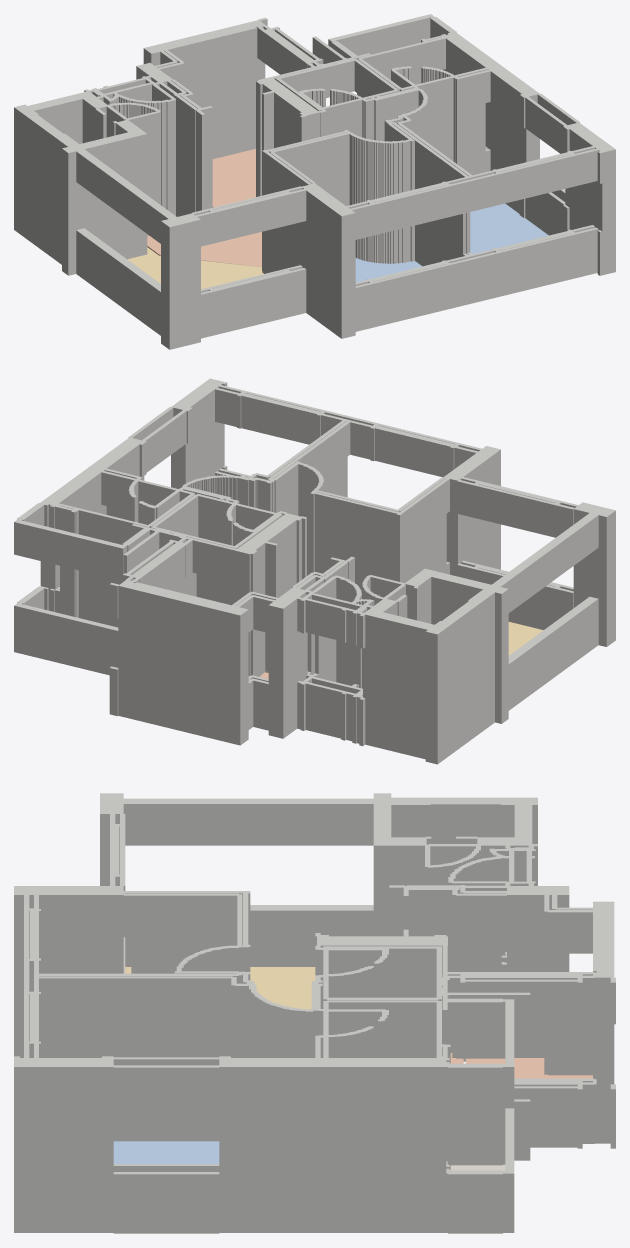
The picture shows the model from 3 angles, top to bottom: view 1: azimuth 30°, elevation 25°; view 2: azimuth 150°, elevation 25°; view 3: azimuth 270°, elevation 25°; orthographic projection. The views are drawn at different scales.
Parts seen in each view (by area): view 1: walls, room:bedroom:2, room:kitchen:7, room:living:3, room:kitchen:5, room:bedroom:1; view 2: walls, room:living:3; view 3: walls, room:bedroom:2, room:living:3, room:kitchen:7.
Part boxes in pixels (x1=…): walls: x1=14, y1=14, x2=615, y2=349; room:bedroom:2: x1=470, y1=203, x2=548, y2=253; room:kitchen:7: x1=212, y1=149, x2=255, y2=207; room:living:3: x1=127, y1=247, x2=263, y2=289; room:kitchen:5: x1=147, y1=232, x2=261, y2=267; room:bedroom:1: x1=355, y1=258, x2=422, y2=282; walls: x1=14, y1=378, x2=615, y2=764; room:living:3: x1=508, y1=622, x2=543, y2=655; walls: x1=14, y1=793, x2=615, y2=1233; room:bedroom:2: x1=113, y1=1141, x2=219, y2=1163; room:living:3: x1=125, y1=967, x2=315, y2=1009; room:kitchen:7: x1=465, y1=1058, x2=592, y2=1078.
Size of the model in its own units: 9.93 by 2.8 by 9.21.
